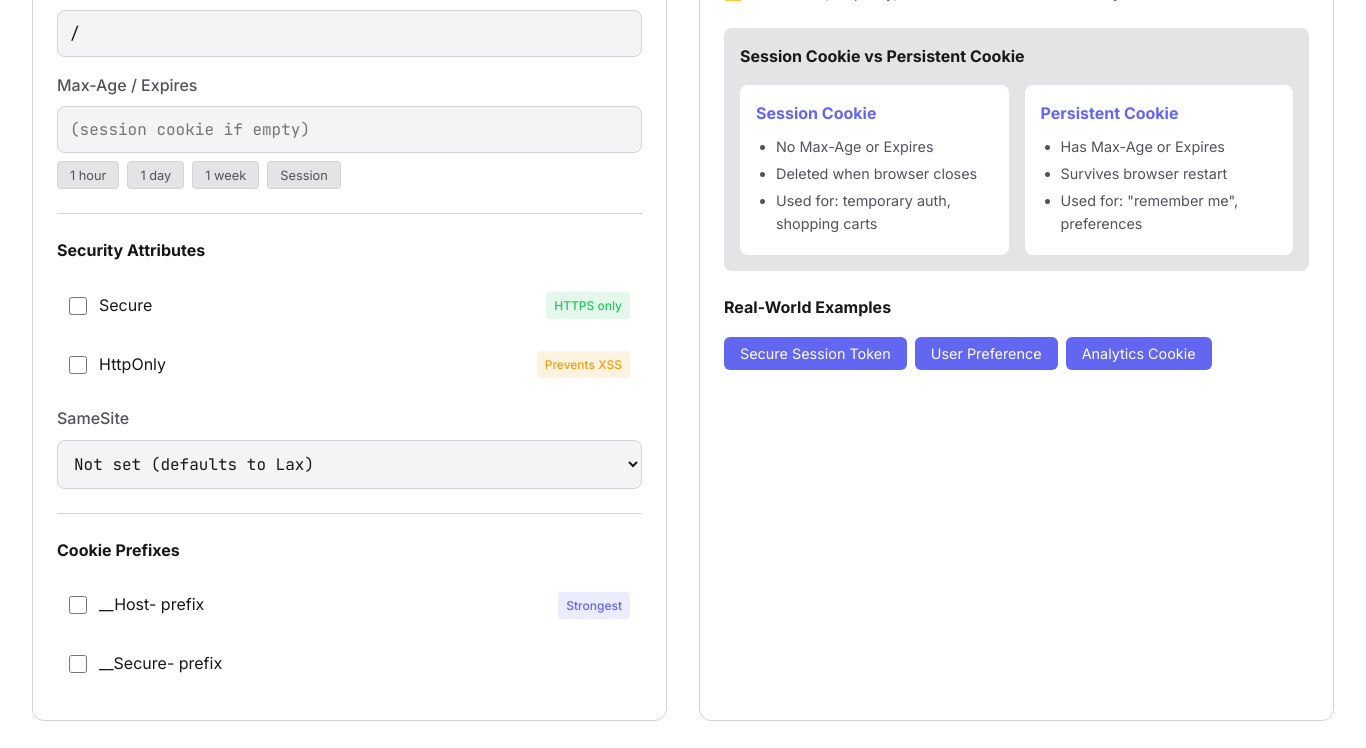
it: CookieAnatomy › shows HttpOnly attribute in preview when enabled
(page scrolled)
Click the checkbox labelled "HttpOnly Prevents XSS".
click(78, 365)  # box 69,356 -> 87,374
(page scrolled)
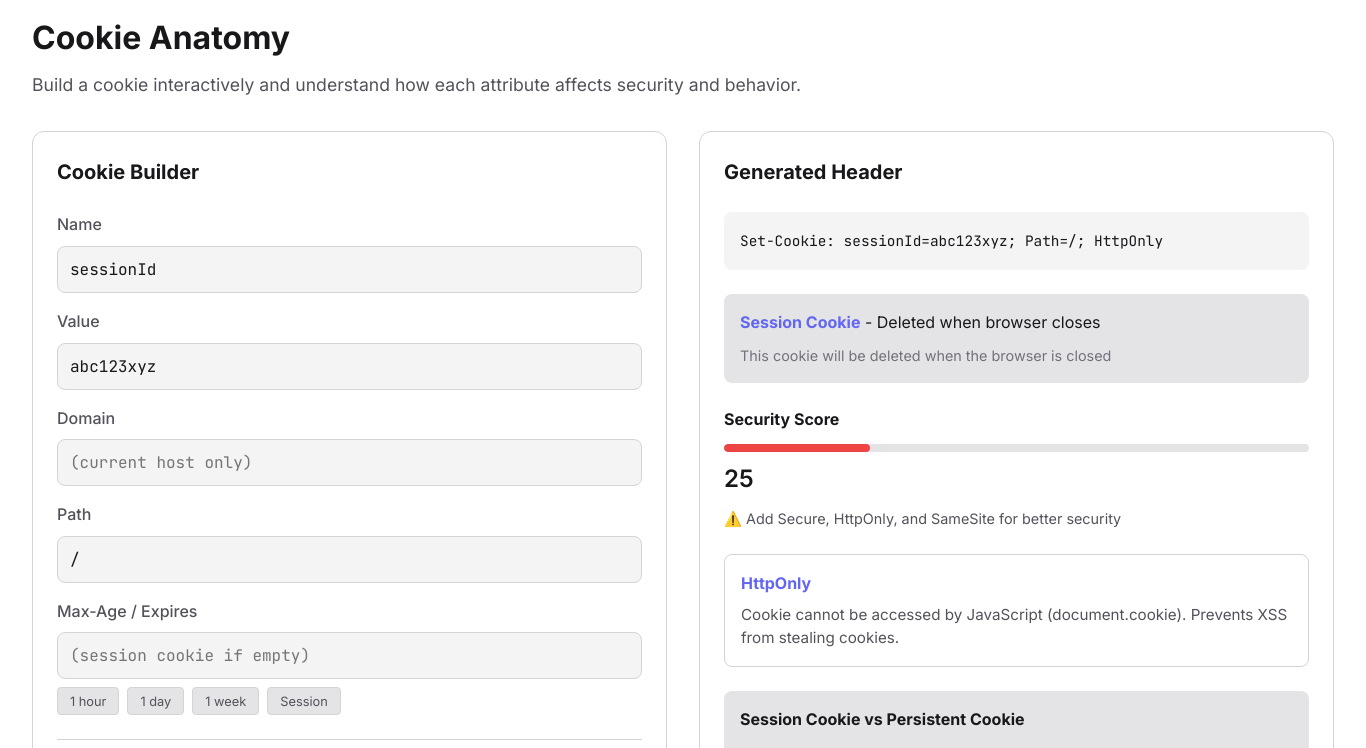
Result: the element with test id "cookie-preview" shows "HttpOnly" at 740,231 -> 1163,250
